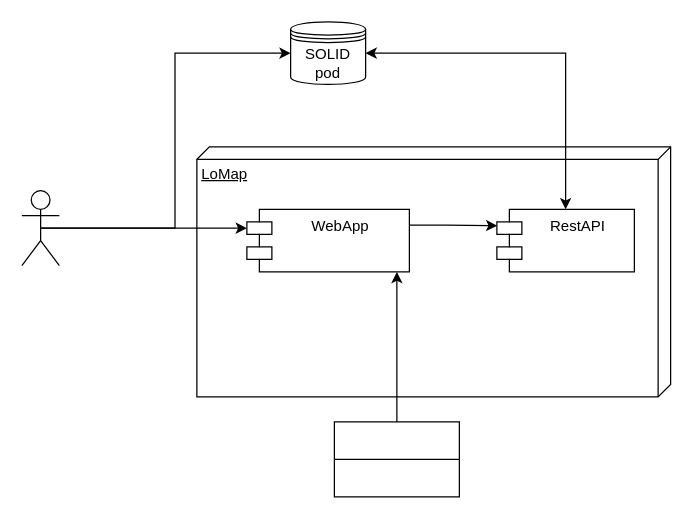
Image size: 693x519. Some labels were removed from this diagram. Here are the shapes that lost their labels. From the top down, the centre of each, then its label:
point 40,227: User
point 396,459: Map API
